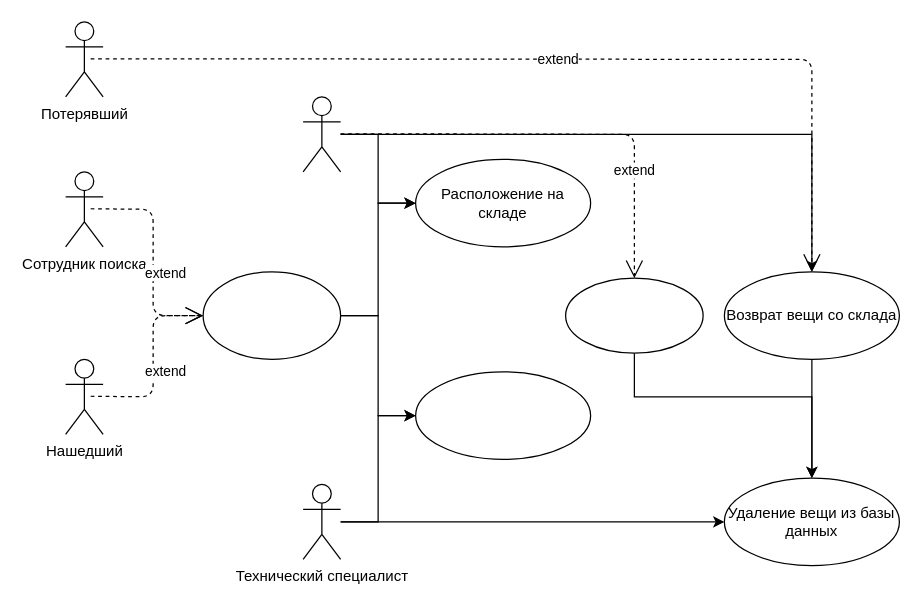
Image size: 921x608. Some labels were removed from this diagram. The shapes that lost their labels are listed below. From the top down, each one's box as (x1, y1, x2, y2) in pixels, then its label:
(302, 96, 341, 172): Кладовщик
(202, 271, 341, 359): Нахождение потерянной вещи
(564, 277, 703, 353): Передача вещи на аукцион
(414, 371, 591, 459): Занесение вещи в базу данных
